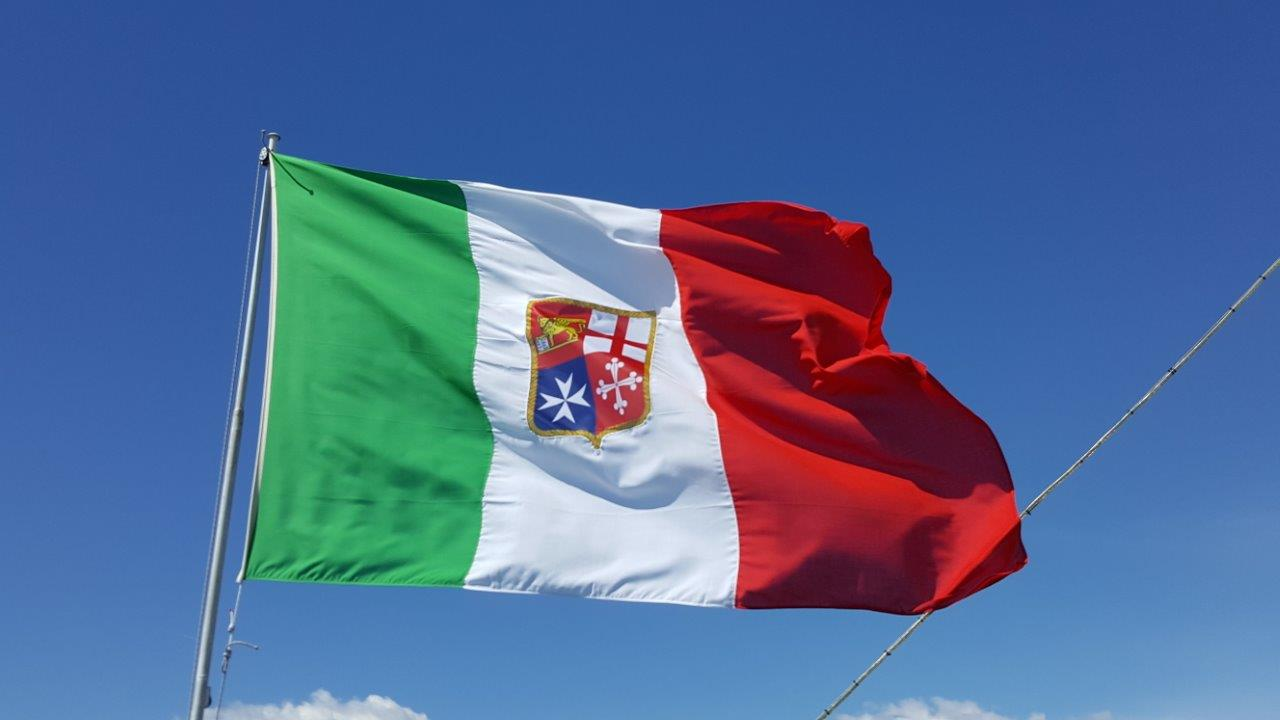Flag: (248, 153, 1030, 617)
